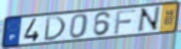0: (68, 13, 90, 40)
4: (23, 17, 41, 43)
6: (93, 11, 112, 38)
D: (43, 15, 67, 42)
F: (114, 9, 138, 35)
N: (135, 5, 162, 34)
